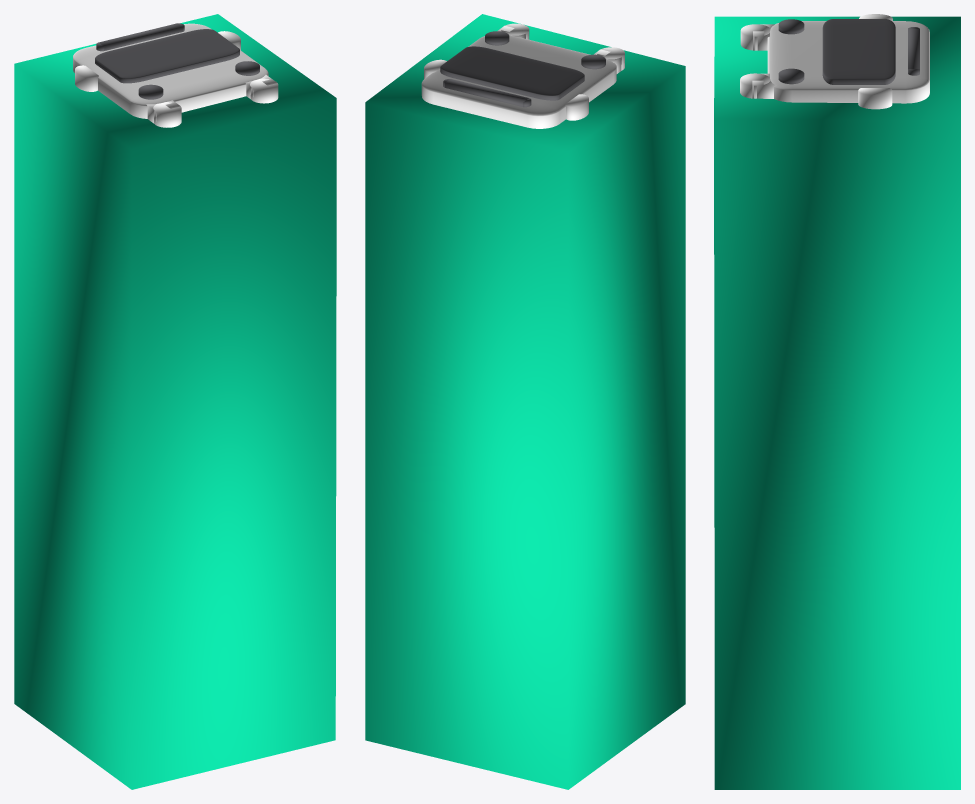
The model's file is BusStopTrial.gltf.
The picture shows the model from 3 angles, left to right: view 1: azimuth 30°, elevation 25°; view 2: azimuth 150°, elevation 25°; view 3: azimuth 270°, elevation 25°; orthographic projection. The views are drawn at different scales.
Visible parts, largest first — view 1: Node1, Node2, Node10, Node9, Node5, Node6; view 2: Node1, Node2, Node10, Node9; view 3: Node1, Node2, Node10, Node6, Node5, Node4, Node9.
Part boxes in pixels (x1,y1,x2,y2): Node1: (14, 14, 336, 789); Node2: (73, 23, 268, 118); Node10: (95, 29, 239, 83); Node9: (96, 23, 184, 51); Node5: (146, 100, 181, 127); Node6: (245, 75, 278, 103); Node1: (365, 14, 685, 789); Node2: (421, 35, 616, 128); Node10: (440, 46, 584, 100); Node9: (443, 79, 531, 107); Node1: (714, 16, 960, 789); Node2: (767, 21, 929, 103); Node10: (822, 19, 895, 84); Node6: (740, 73, 776, 98); Node5: (740, 24, 774, 50); Node4: (858, 88, 892, 109); Node9: (908, 27, 919, 75).
Size of the model in its own units: 2.18 by 6.72 by 2.18.
